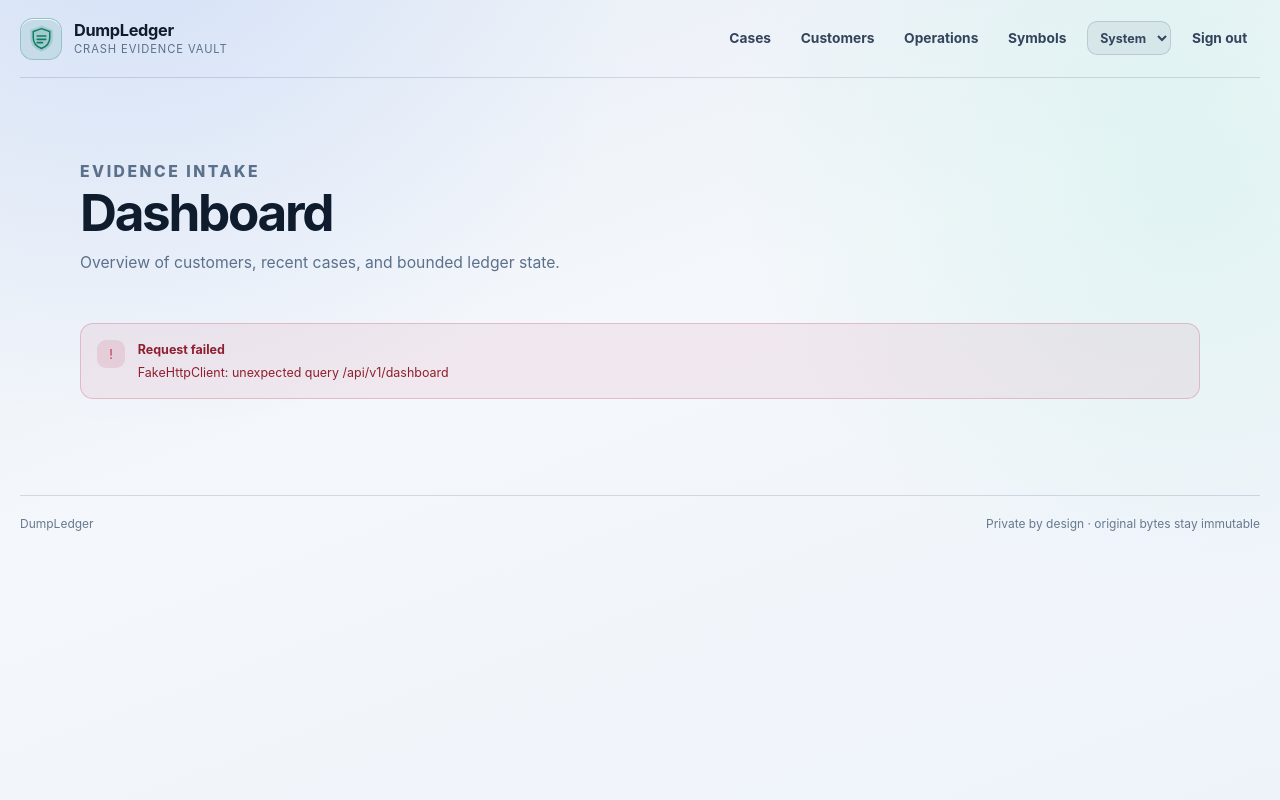
Scenario: logout › signs out through DELETE /api/v1/session with a CSRF token and returns to /login
This screenshot has width=1280, height=800.
Expected: the heading "Dashboard" is shown, top-left (80, 181), bottom-right (332, 243)
Click the button "Sign out".
click(1220, 38)  # box top-left (1179, 19), bottom-right (1260, 58)
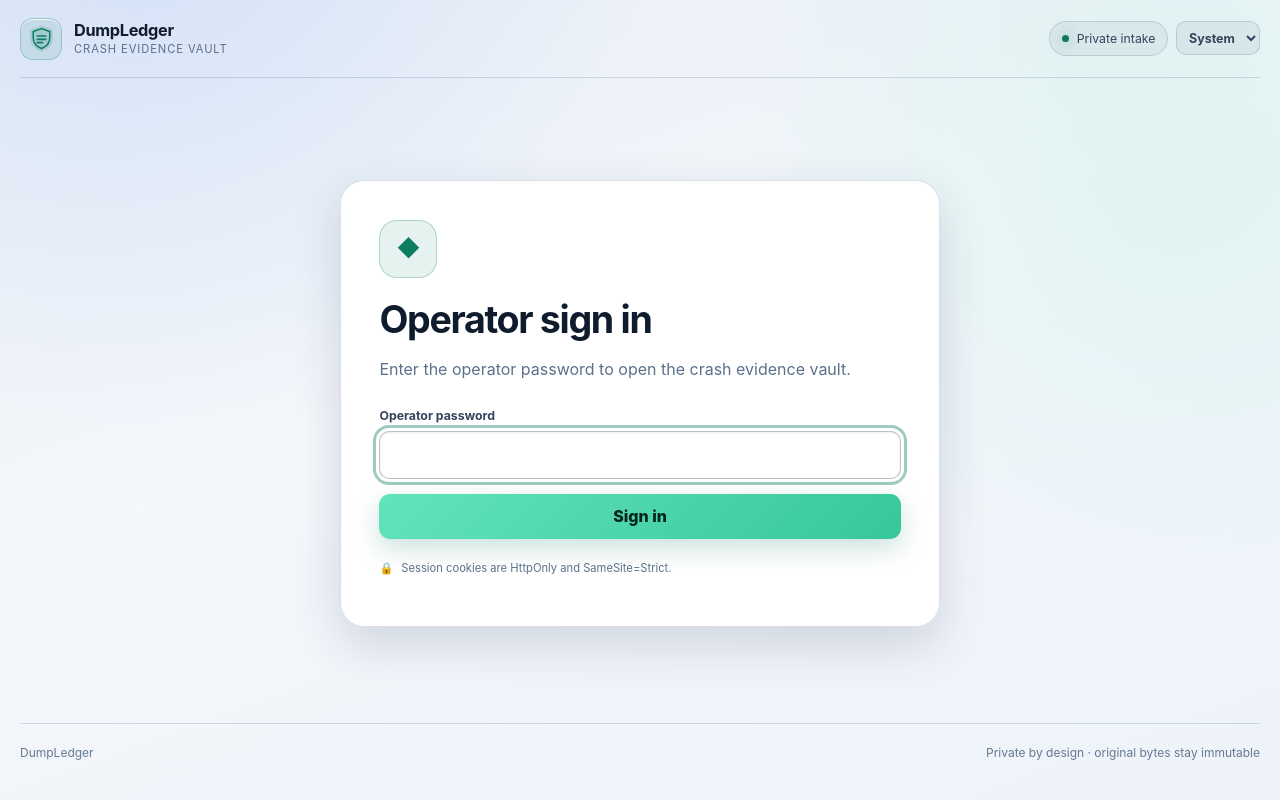
Expected: the heading "Operator sign in" is shown, top-left (379, 297), bottom-right (652, 342)
